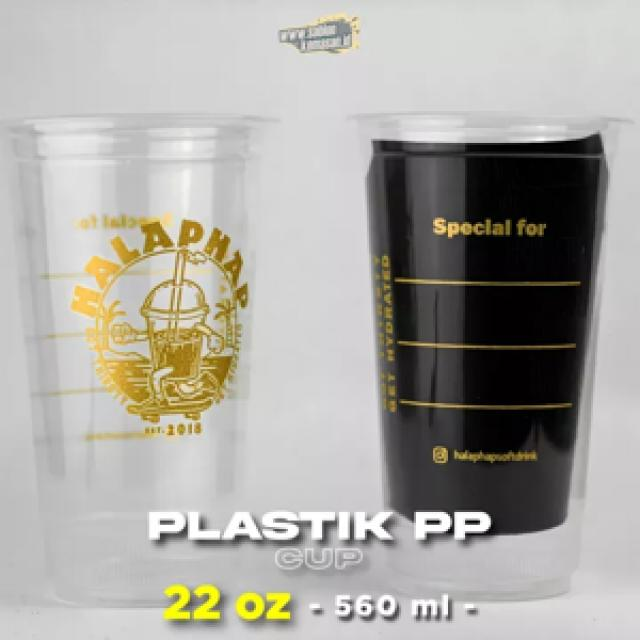plastic cup: (335, 100, 638, 614), (4, 107, 288, 614)
